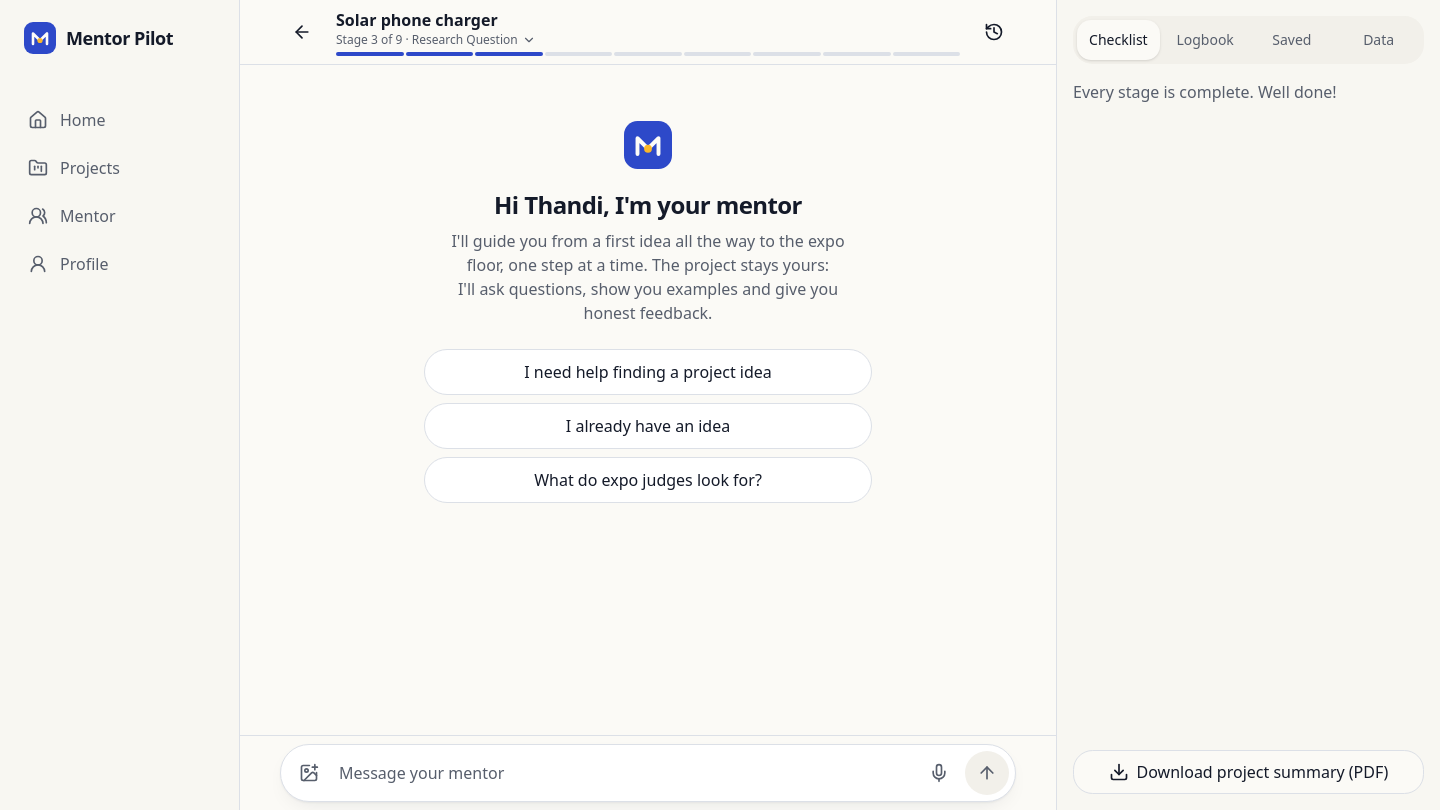
Test: project workspace › explains when a message cannot be sent, and keeps the chat usable
The image size is (1440, 810).
Type "Hello" into the text box labelled "Message your mentor" at (624,773), box top-left (335, 751), bottom-right (913, 795)
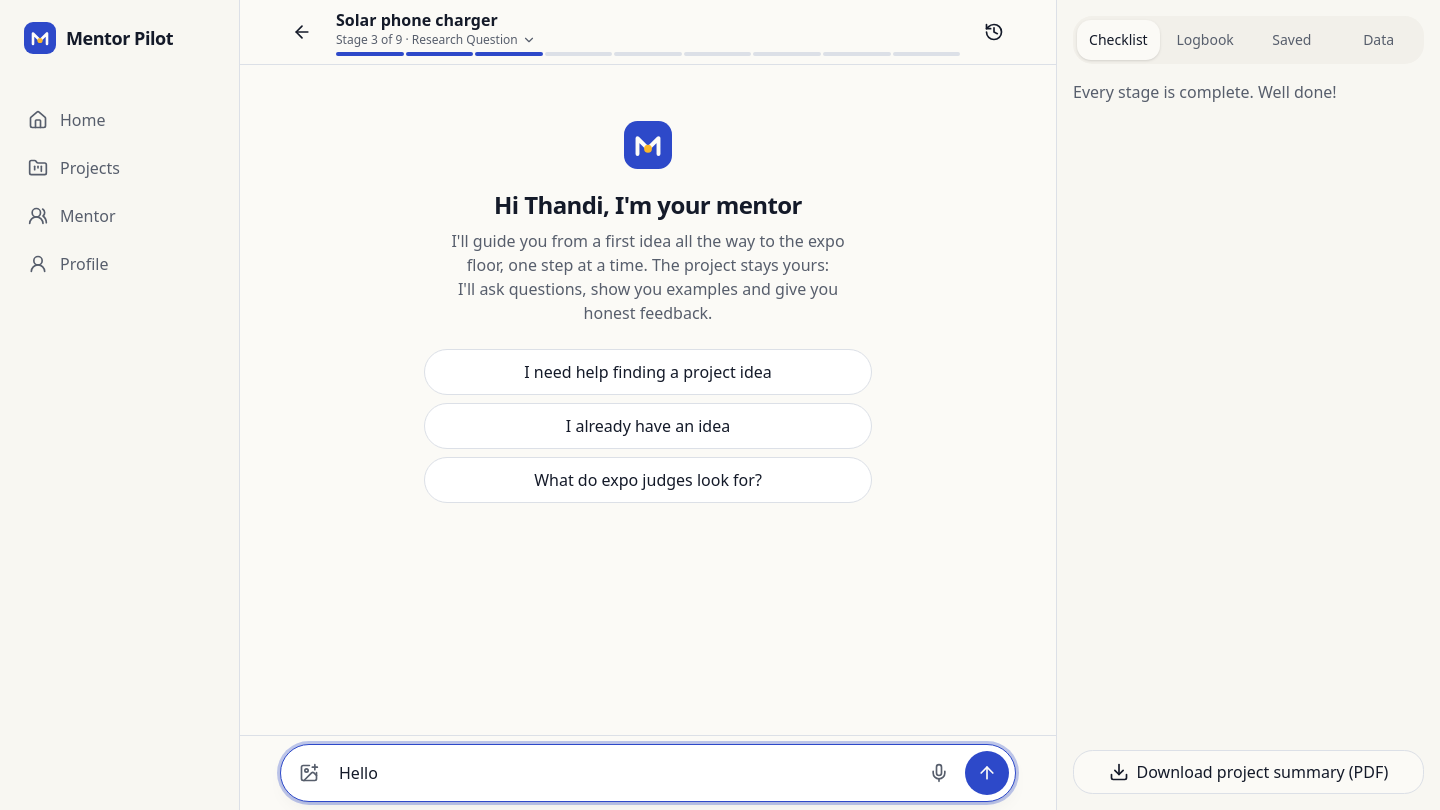
Click the button named "Send message" at (987,773), box top-left (965, 751), bottom-right (1009, 795)
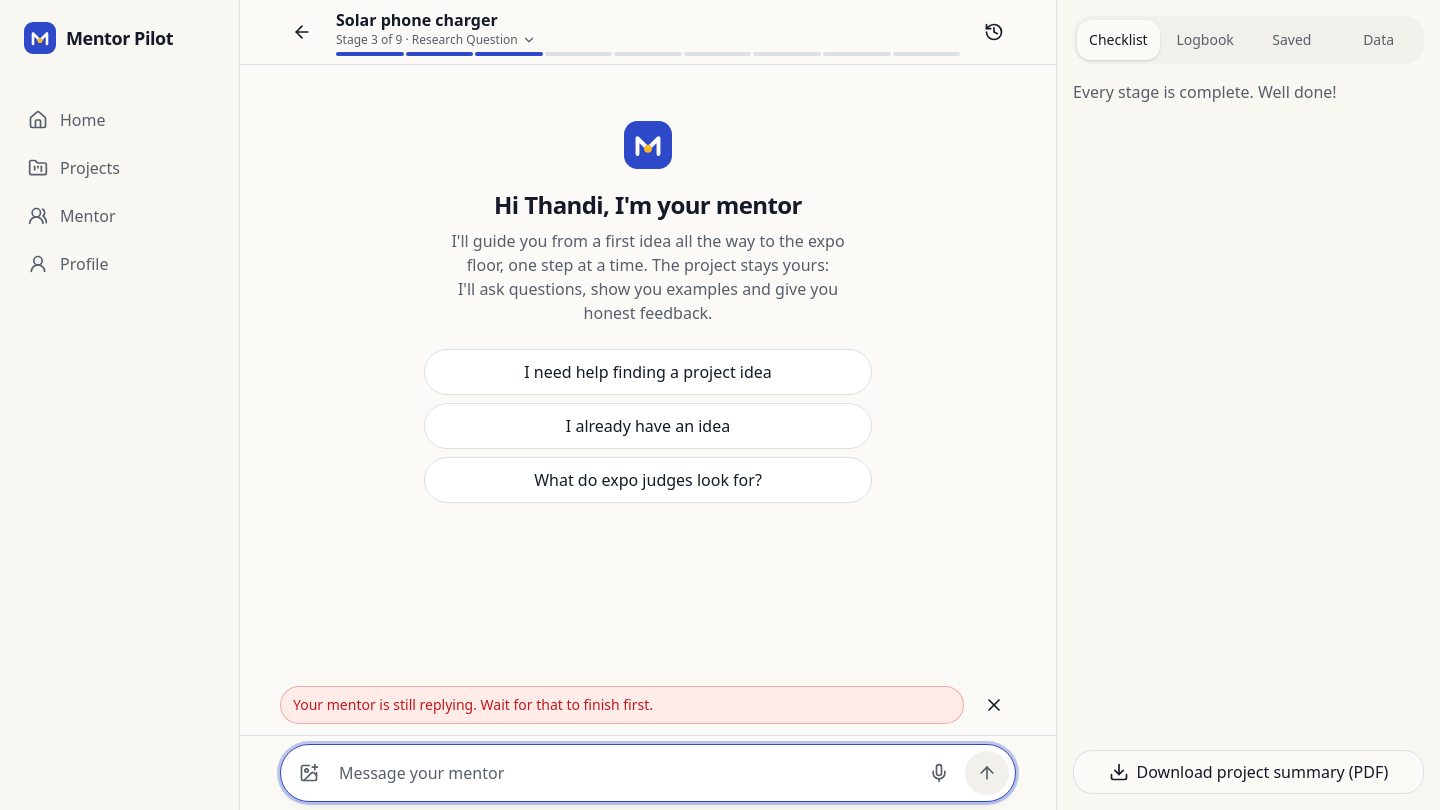
Now the text "still replying" is shown, box top-left (293, 695), bottom-right (653, 714)
Click the button named "Dismiss" at (994,705), box top-left (972, 683), bottom-right (1016, 727)
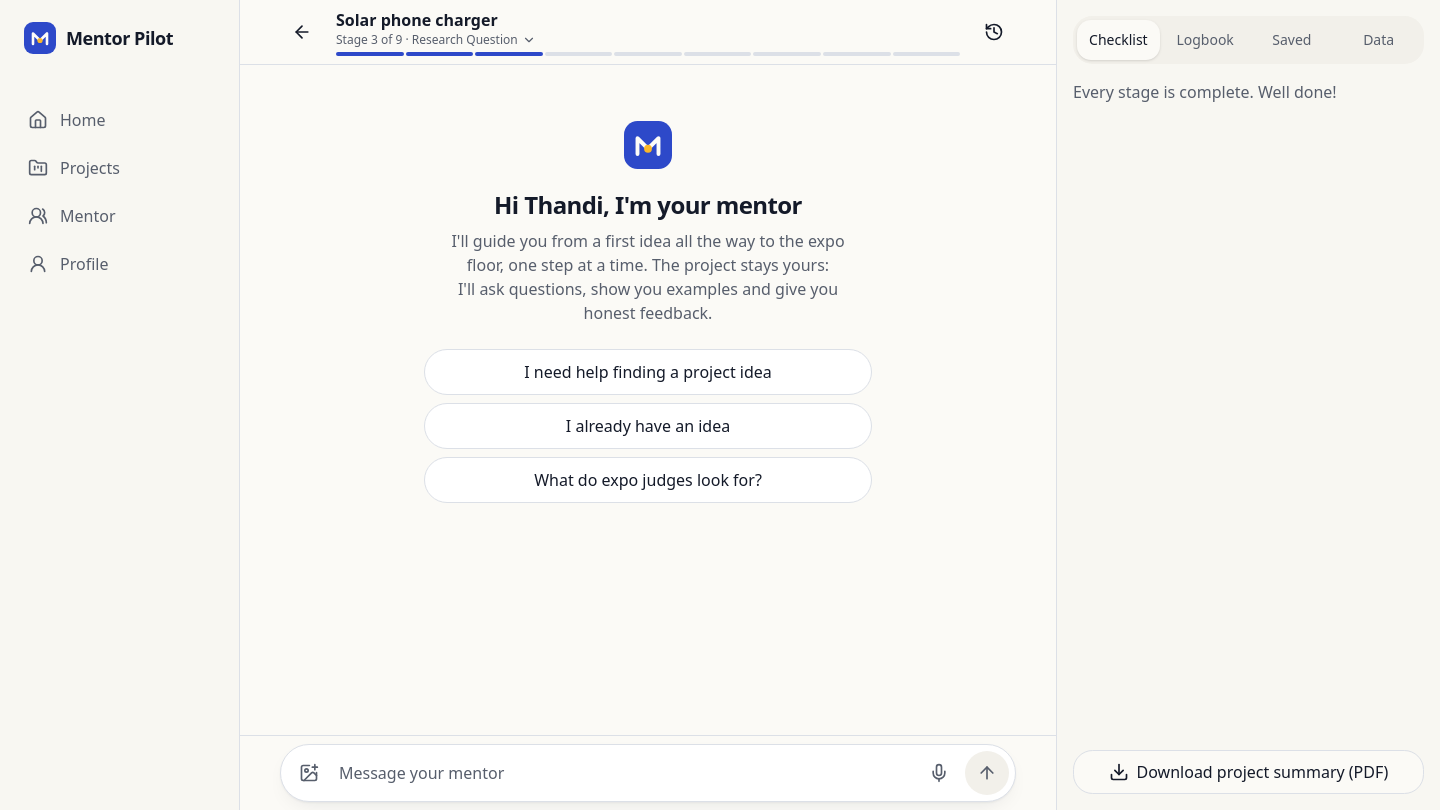
Now the text "still replying" is gone
